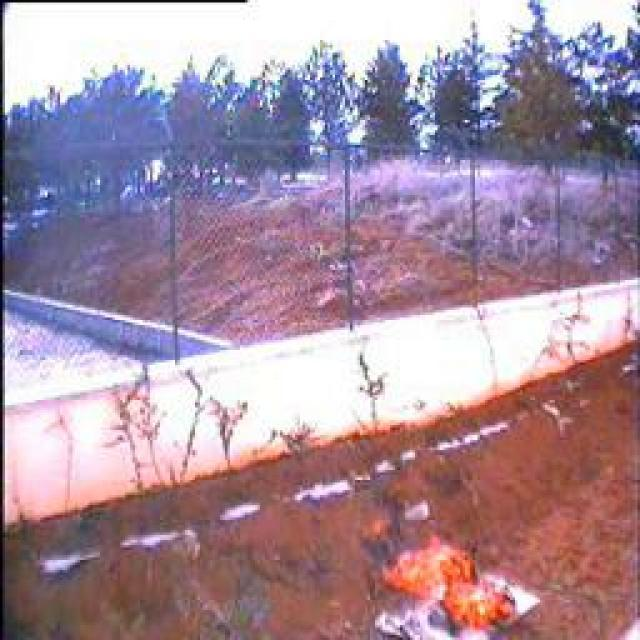Fire: (365, 519, 525, 634)
